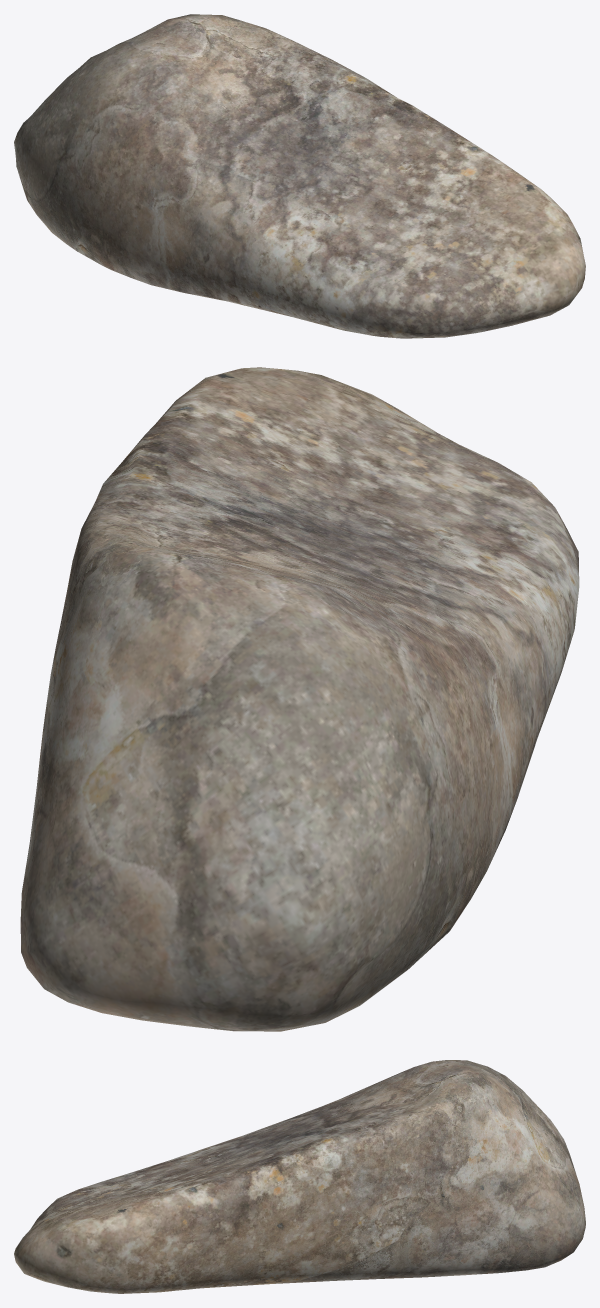
The model's file is Stone 07_01.fbx.
3 views of the same model, one above another, from view 1: azimuth 30°, elevation 25°; view 2: azimuth 150°, elevation 25°; view 3: azimuth 270°, elevation 25° (orthographic). The views are drawn at different scales.
Visible parts, largest first — view 1: Stone_07_LOD0; view 2: Stone_07_LOD0; view 3: Stone_07_LOD0.
Boxes of the visible parts, x1,y1,x2,y2 form: Stone_07_LOD0: [14, 14, 585, 338]; Stone_07_LOD0: [20, 367, 579, 1031]; Stone_07_LOD0: [14, 1060, 585, 1293].
Size of what is drawn, in the model's own units: 174 by 110 by 291.
Materials: 1 (1 with a texture image).
